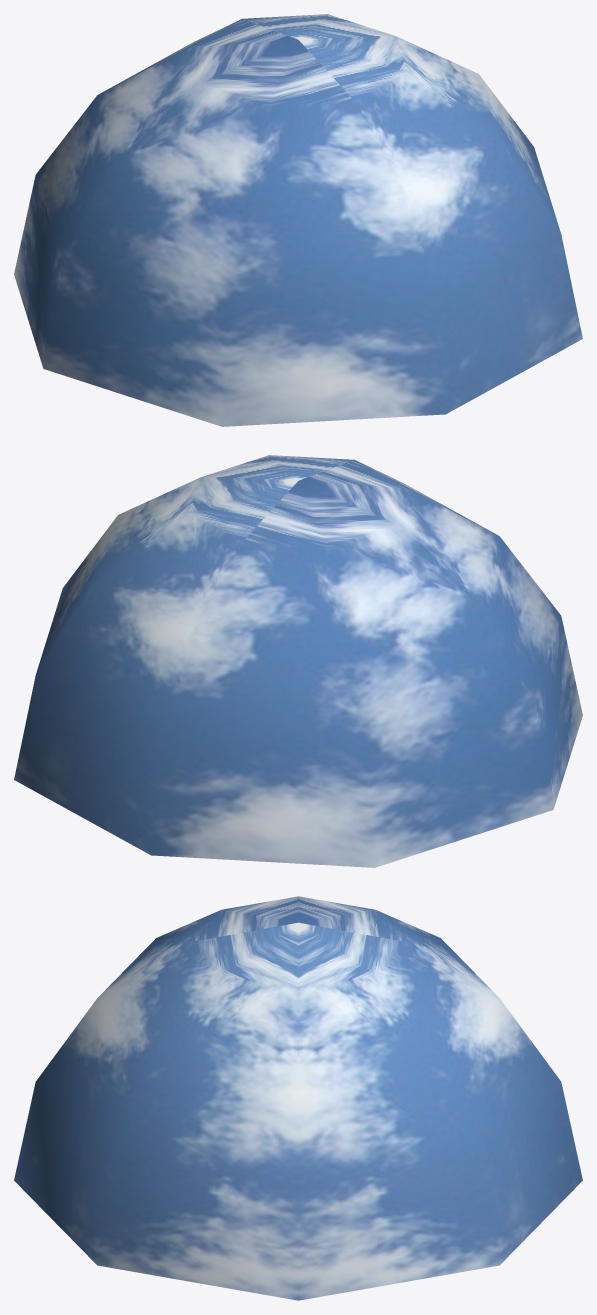
The model's file is stage1.fbx.
The picture shows the model from 3 angles, top to bottom: view 1: azimuth 30°, elevation 25°; view 2: azimuth 150°, elevation 25°; view 3: azimuth 270°, elevation 25°; orthographic projection. The views are drawn at different scales.
Visible parts, largest first — view 1: stage1:sphere; view 2: stage1:sphere; view 3: stage1:sphere.
Boxes of the visible parts, x1,y1,x2,y2 form: stage1:sphere: (14,14,582,426); stage1:sphere: (14,455,582,867); stage1:sphere: (14,896,582,1300).
Size of the model in its own units: 203 by 102 by 203.
4 materials, 4 textured.
